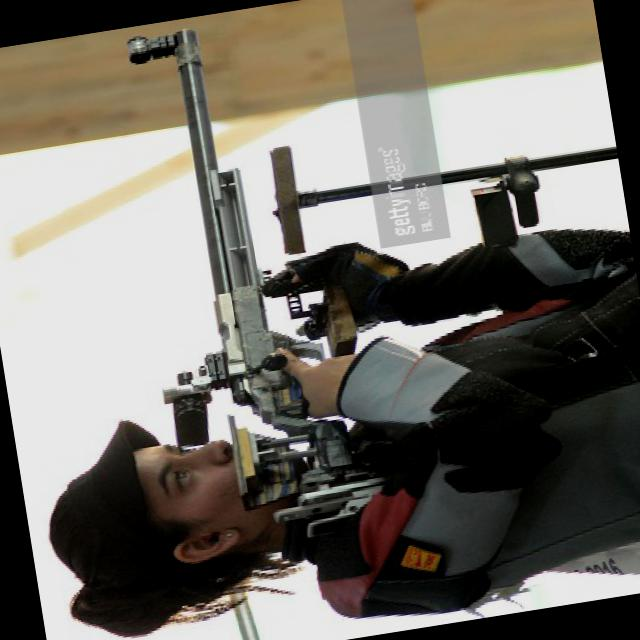long weapon: (93, 10, 376, 544)
